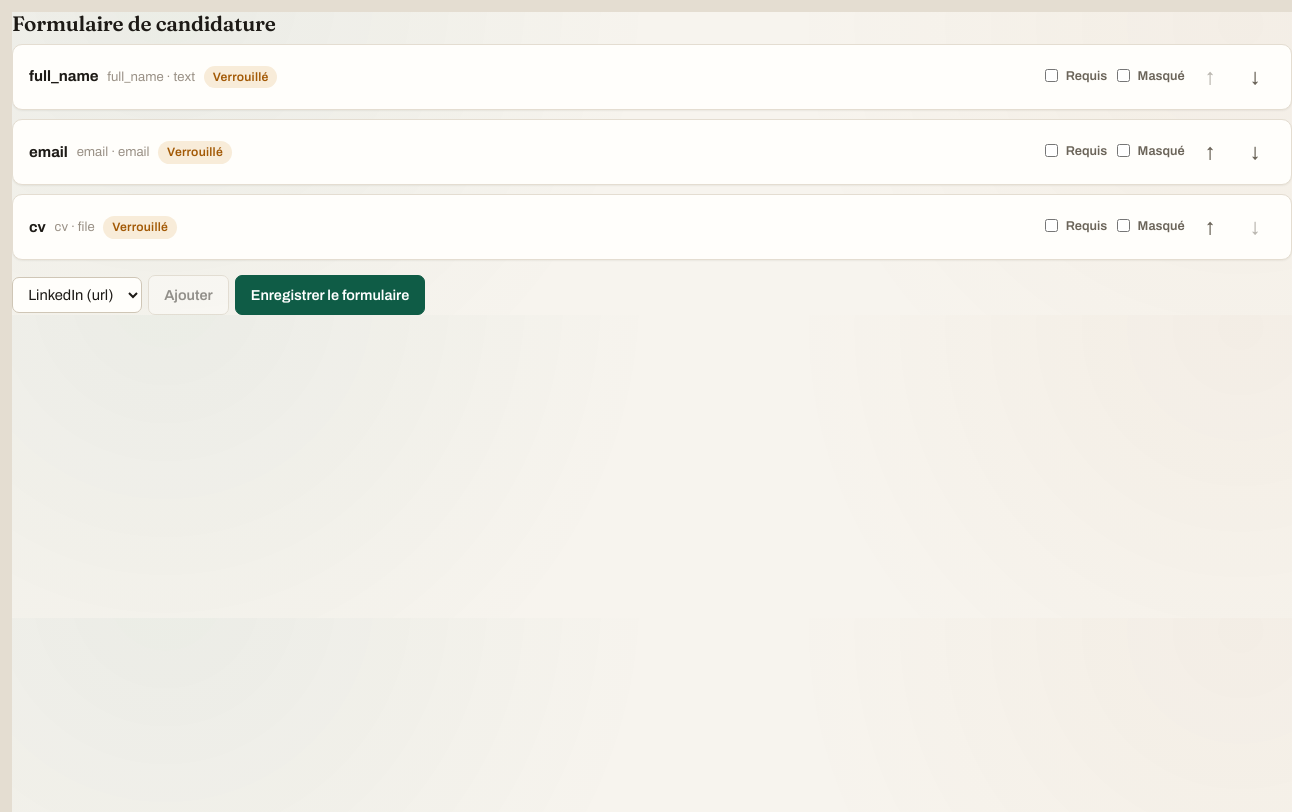
Scenario: FormEditorComponent › adds the LinkedIn catalog field to the list
The image size is (1292, 812).
Select "LinkedIn (url)" in the dropdown named "Champ à ajouter" at (77, 295), box [12,277,142,313]
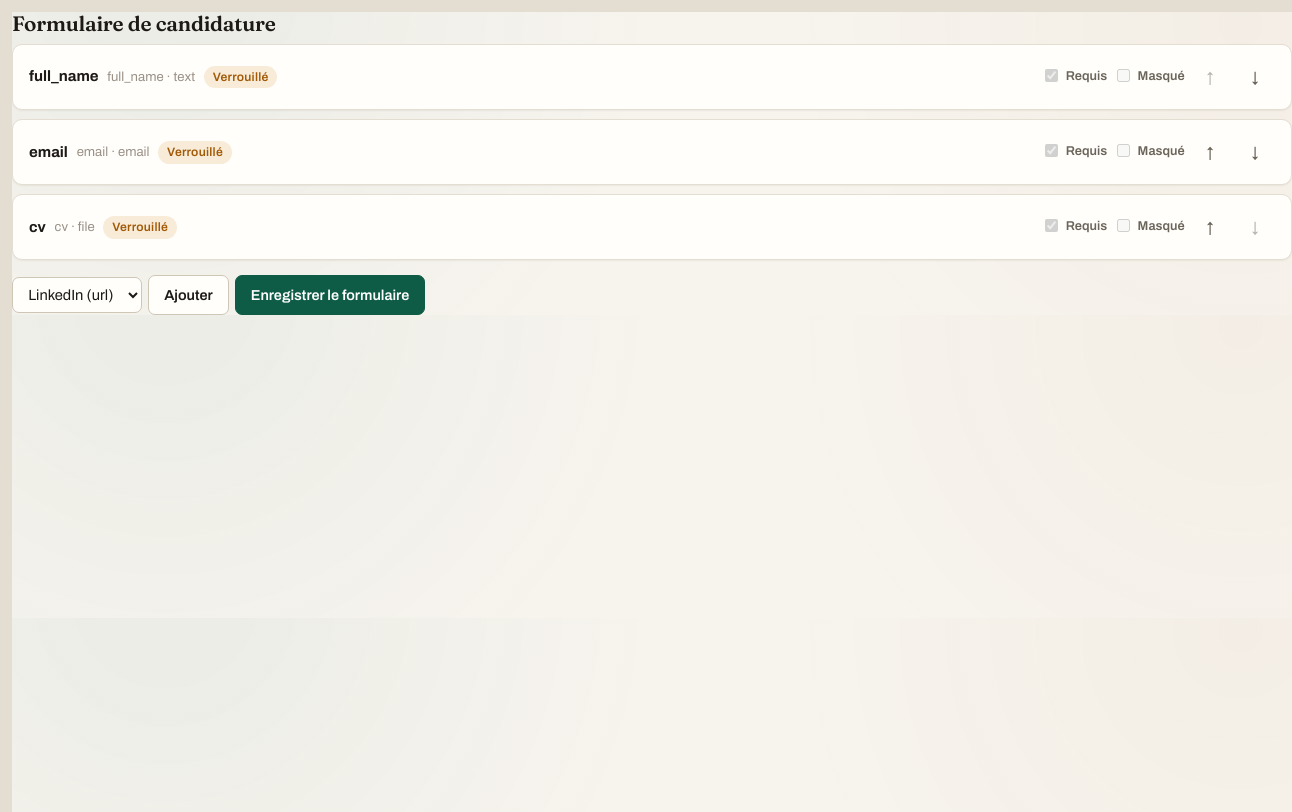
Check: the button "Ajouter" is enabled
Click the button "Ajouter" at (188, 295), box [148,275,229,315]
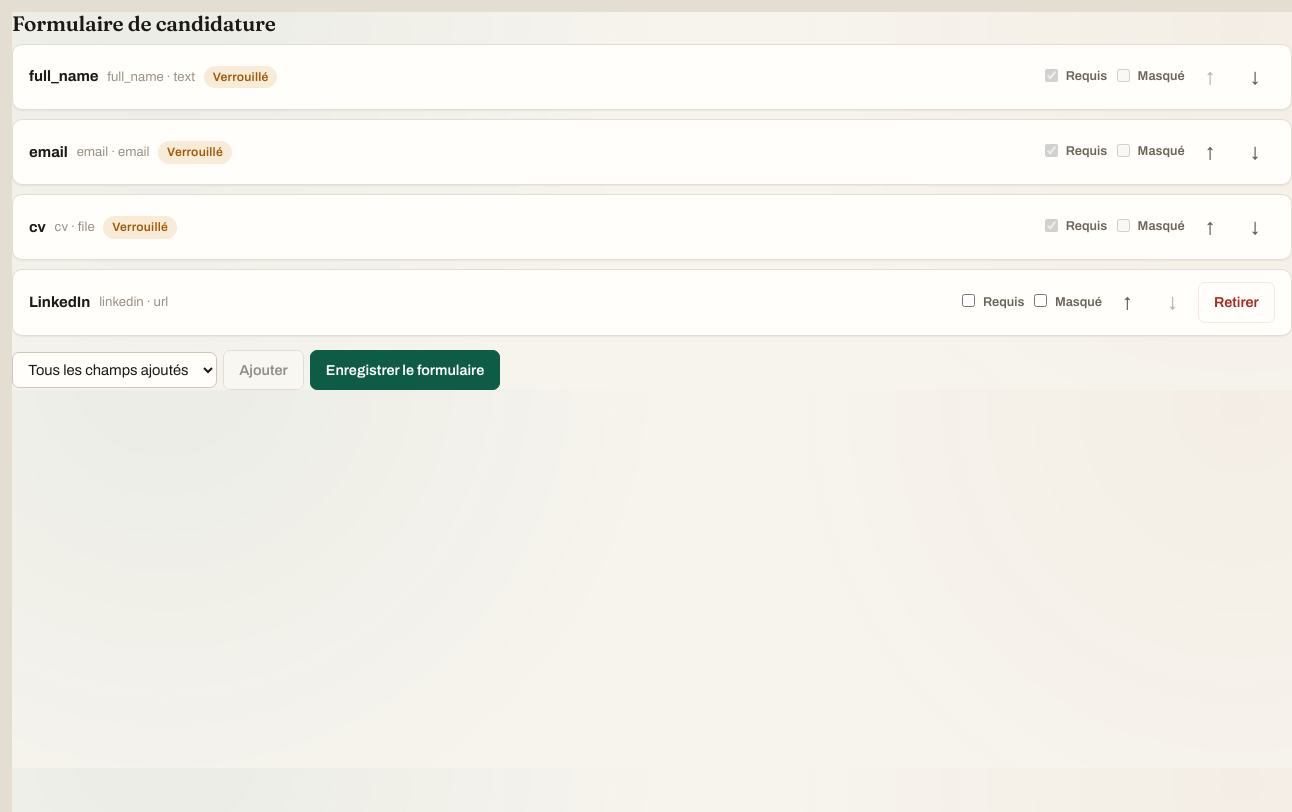
Check: the text "LinkedIn" is shown, box [29,291,90,314]
